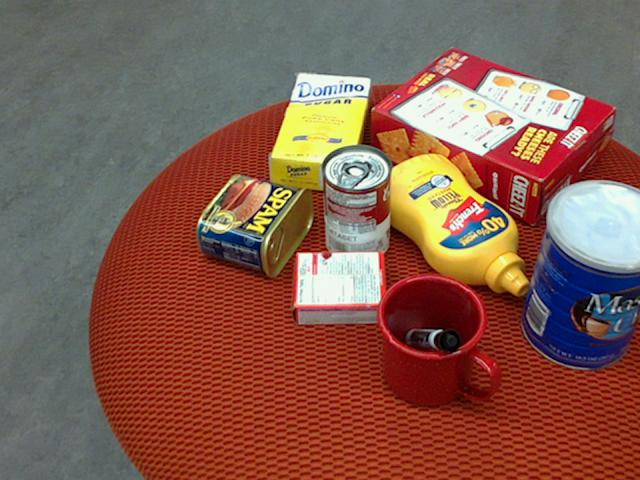cracker_box: (370, 46, 613, 222)
gelatin_box: (288, 252, 383, 326)
large_marker: (405, 328, 459, 351)
master_chef_can: (519, 179, 639, 370)
mug: (372, 273, 496, 407)
mustard_bottle: (370, 153, 527, 296)
potted_meat_can: (194, 173, 312, 277)
sugar_box: (268, 73, 370, 192)
tomato_soup_can: (319, 142, 390, 263)
tuna_fish_can: (551, 193, 639, 274)
